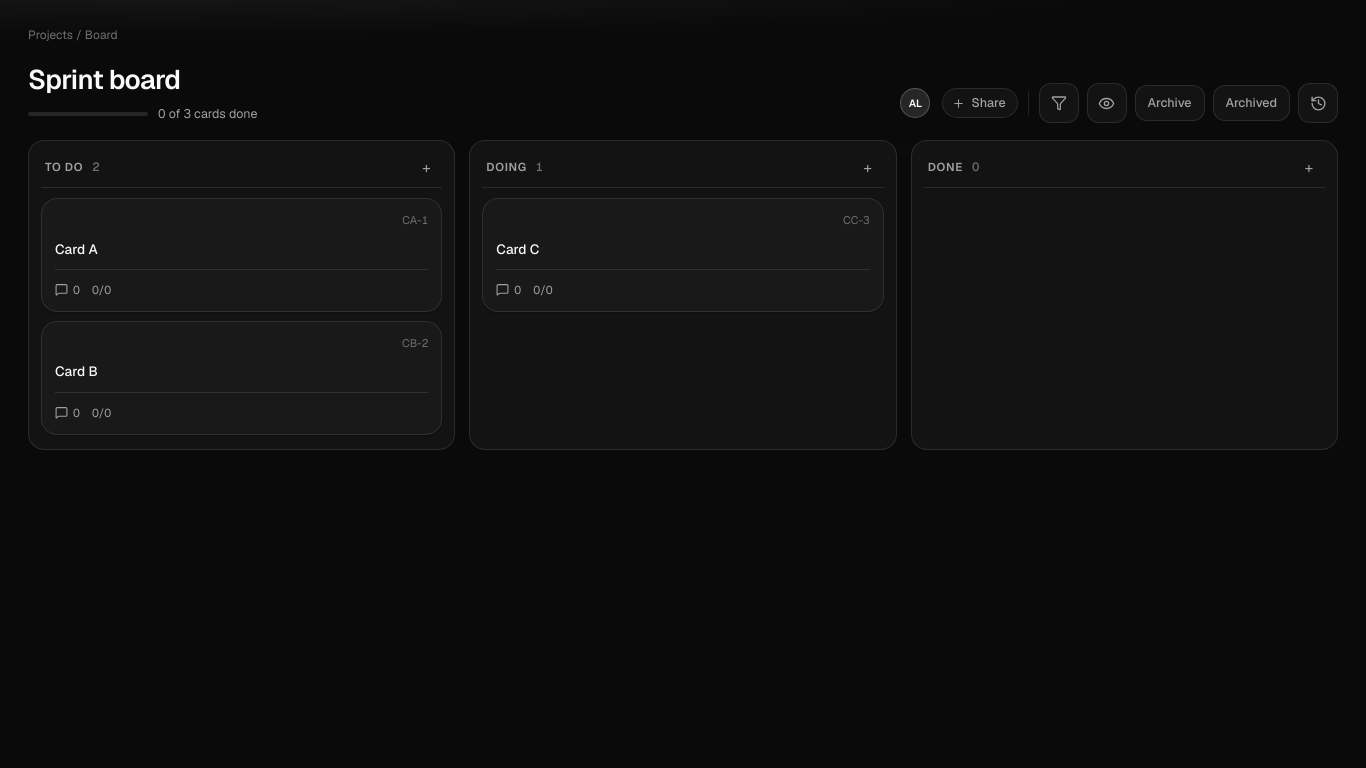
ProjectBoard › opens New task from the plus with that column selected
This screenshot has width=1366, height=768.
What coordinates should you click on to do the following:
click the button named "Add card to To do"
I would click on:
 (426, 167)
Its box is [414, 155, 438, 179].
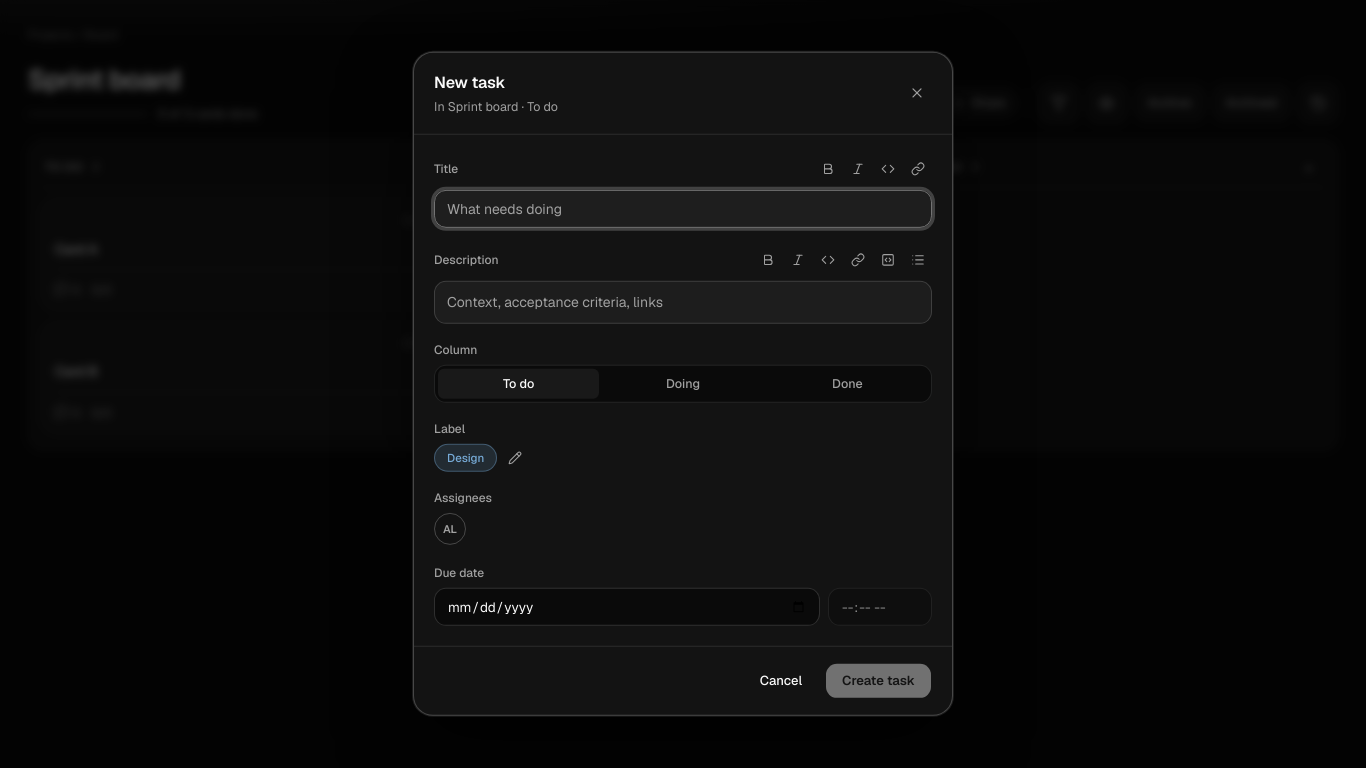
Expected: the dialog is shown, [413, 52, 953, 716]
Expected: the text "In Sprint board · To do" is shown, [434, 98, 558, 116]
Expected: the button "To do" is shown, [438, 369, 599, 399]
